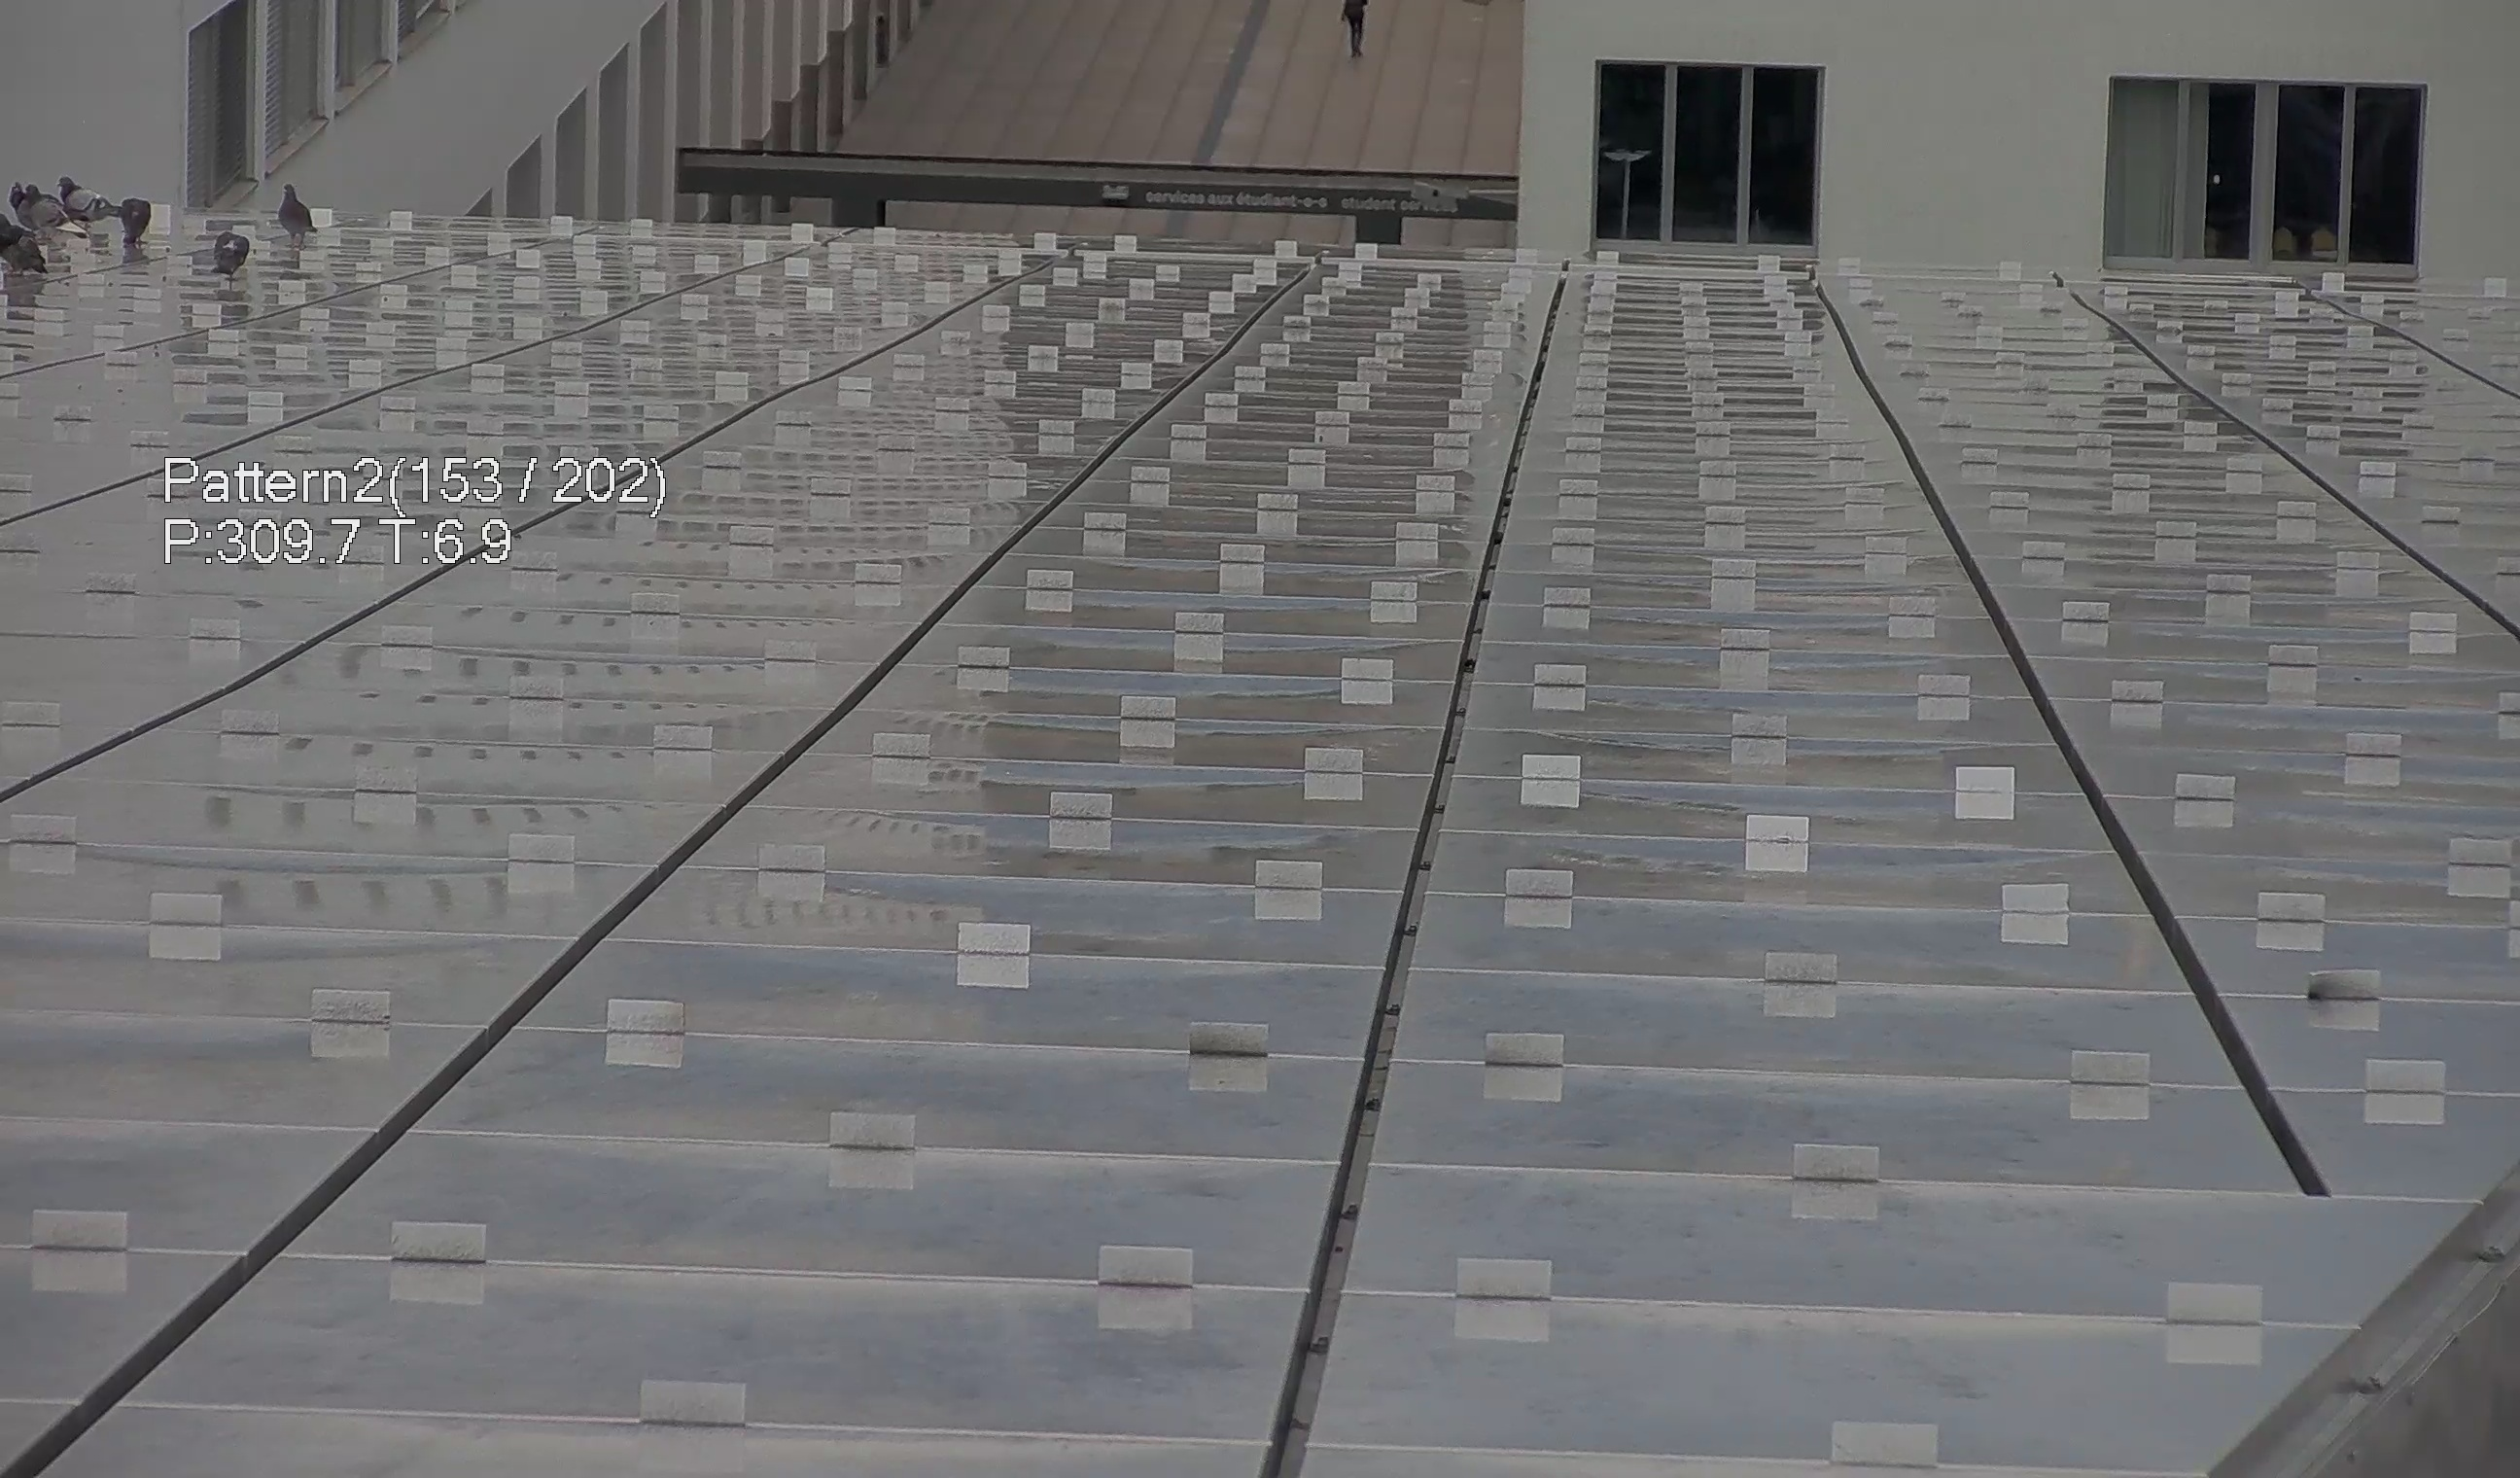Pigeon: (18, 192, 88, 250), (63, 171, 128, 227), (266, 176, 318, 239), (2, 216, 47, 282), (206, 229, 260, 282), (116, 192, 164, 252)
